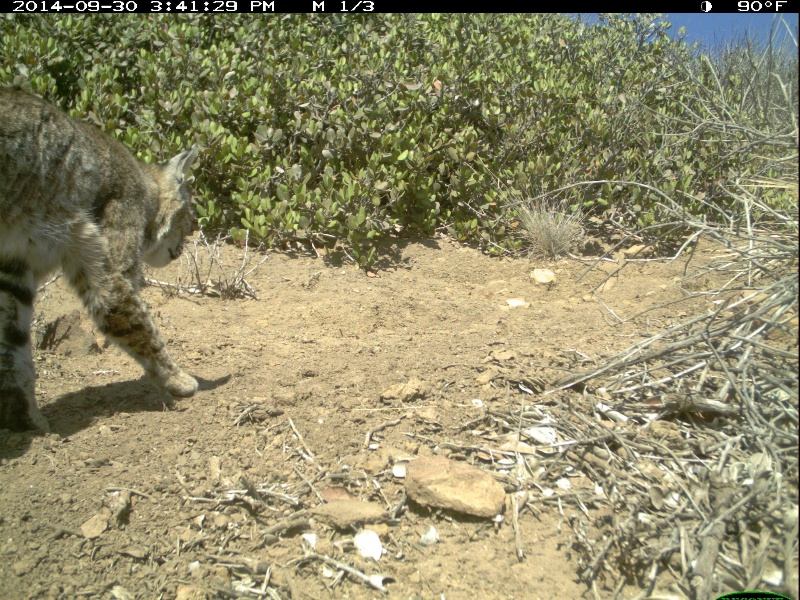cat: (1, 80, 211, 449)
